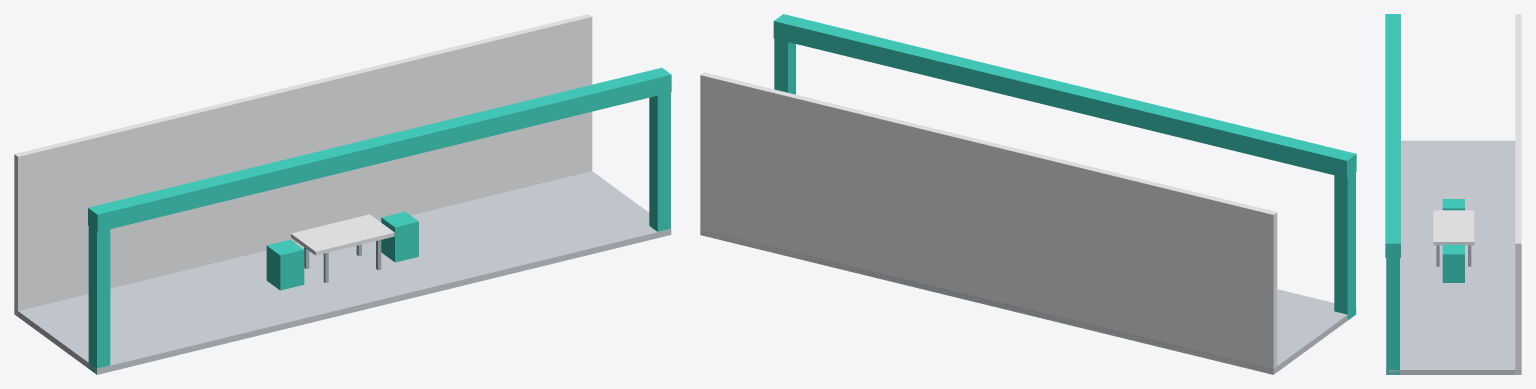
The picture shows the model from 3 angles, left to right: view 1: azimuth 30°, elevation 25°; view 2: azimuth 150°, elevation 25°; view 3: azimuth 270°, elevation 25°; orthographic projection. The views are drawn at different scales.
Parts seen in each view (by area): view 1: Exhibition Booth Concept; view 2: Exhibition Booth Concept; view 3: Exhibition Booth Concept.
Part boxes in pixels (bbox=[...]): Exhibition Booth Concept: bbox=[14, 14, 671, 374]; Exhibition Booth Concept: bbox=[700, 14, 1356, 374]; Exhibition Booth Concept: bbox=[1385, 14, 1521, 374].
Bounding box in the file's own units: 12 × 3.2 × 3.01.
